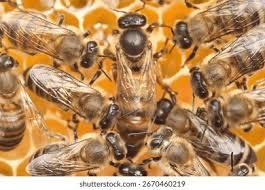Queen-Bee: (110, 6, 158, 160)
worker-bee: (156, 86, 257, 170), (22, 57, 119, 132), (0, 3, 104, 71), (192, 19, 265, 107), (24, 124, 124, 185), (176, 0, 265, 48), (0, 45, 30, 160), (202, 93, 265, 134)
